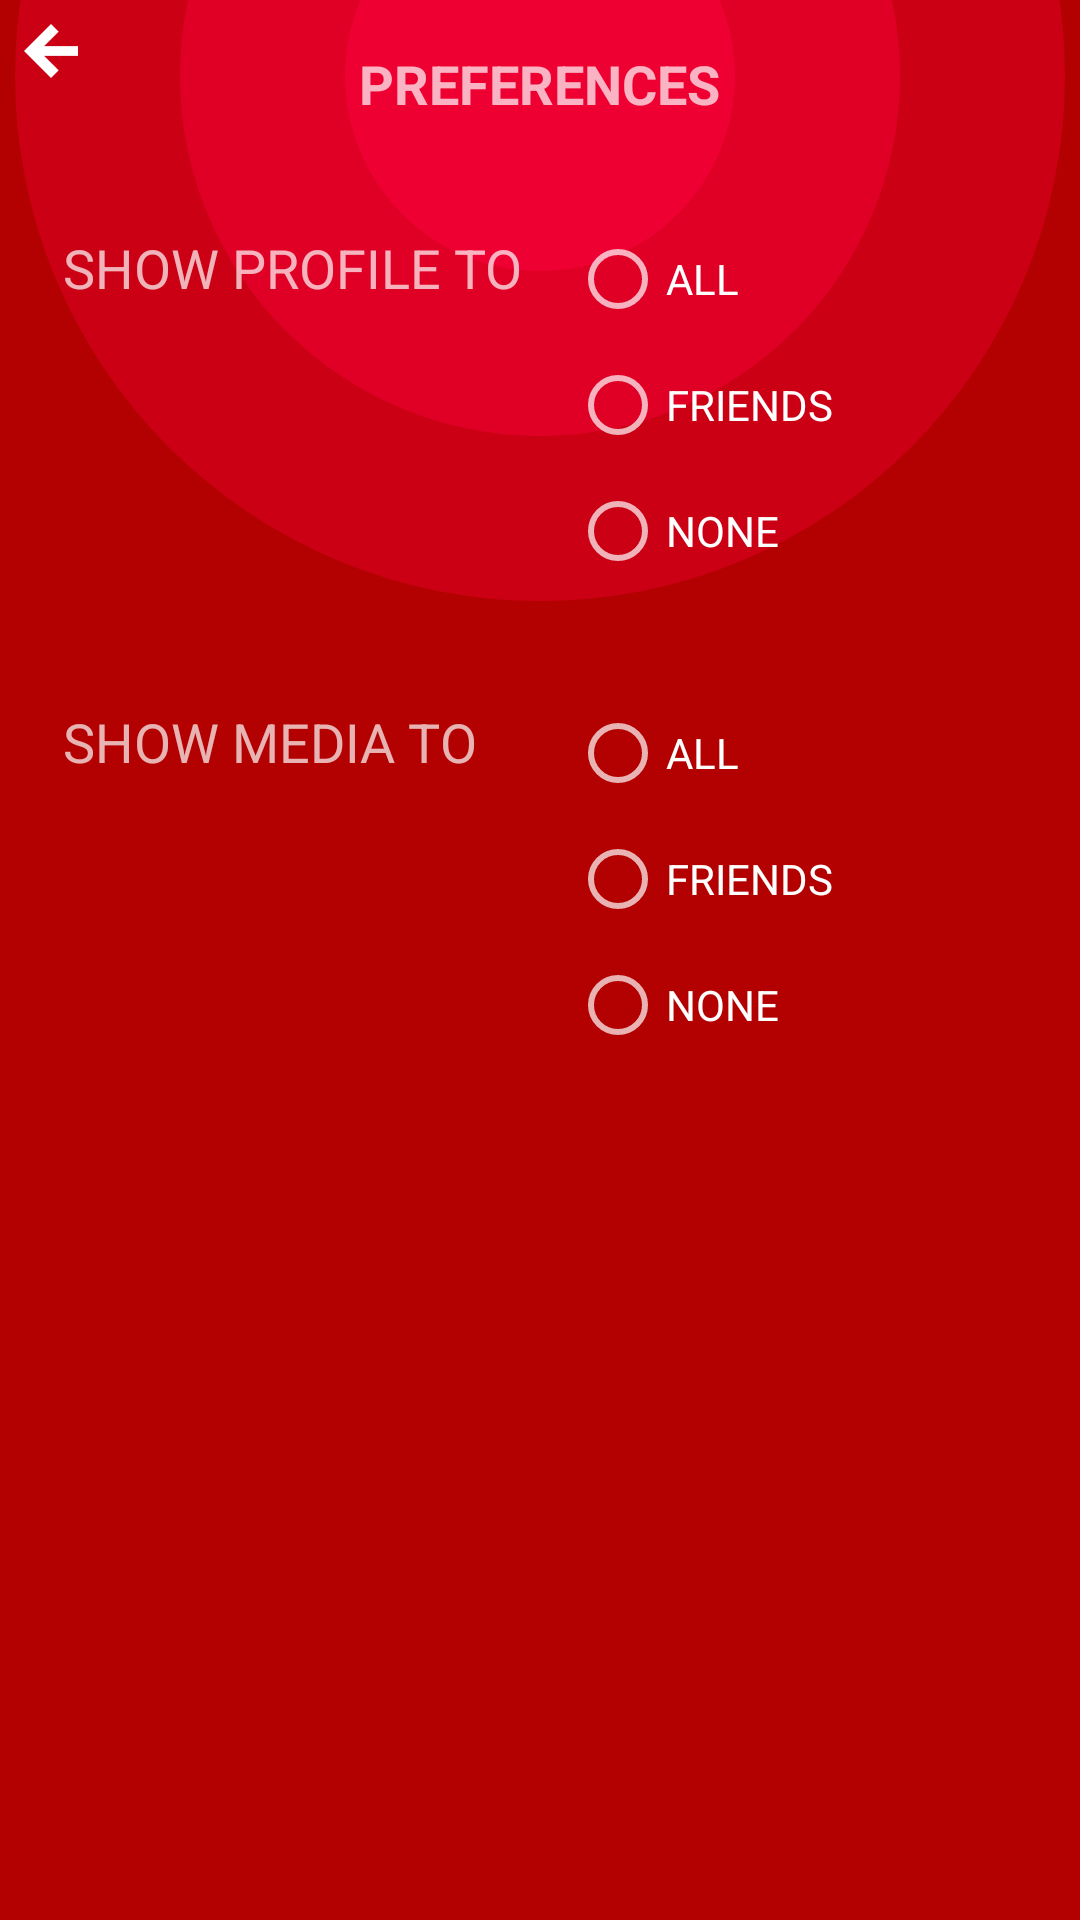

Screen size 1080w x 1920h. Icon name, then its center in pixels as (x=x, y=y):
arrow left: (x=51, y=51)
